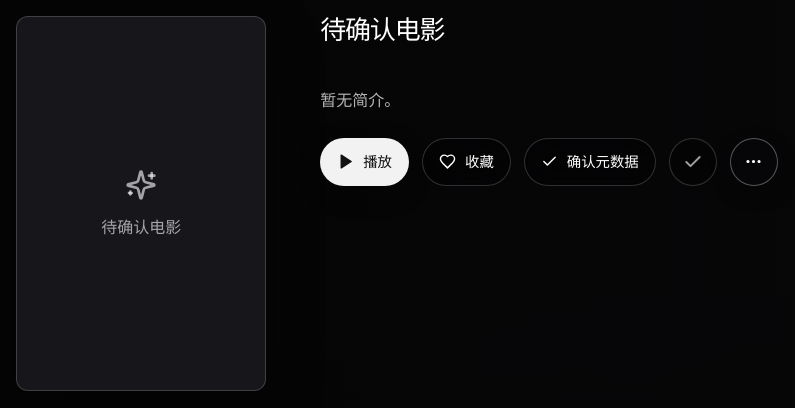
it: MediaDetailPage series hierarchy › offers a single-item confirmation action for pending metadata
The width and height of the screenshot is (795, 408).
Click the button "确认元数据" at (590, 162), box [524,138,656,186]
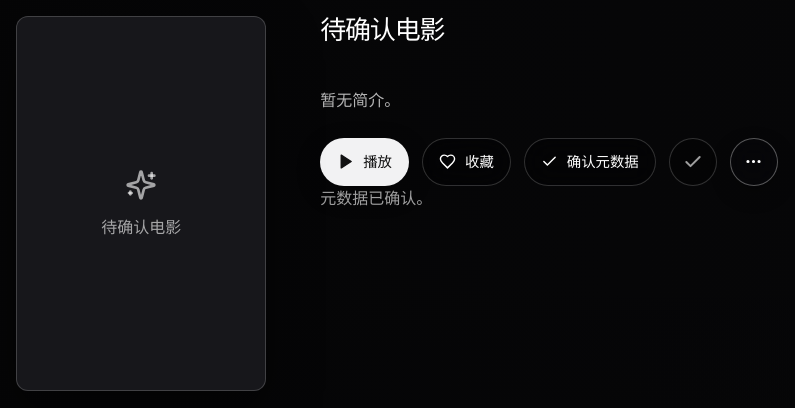
Result: the text "元数据已确认" is shown at [320,188,432,208]
